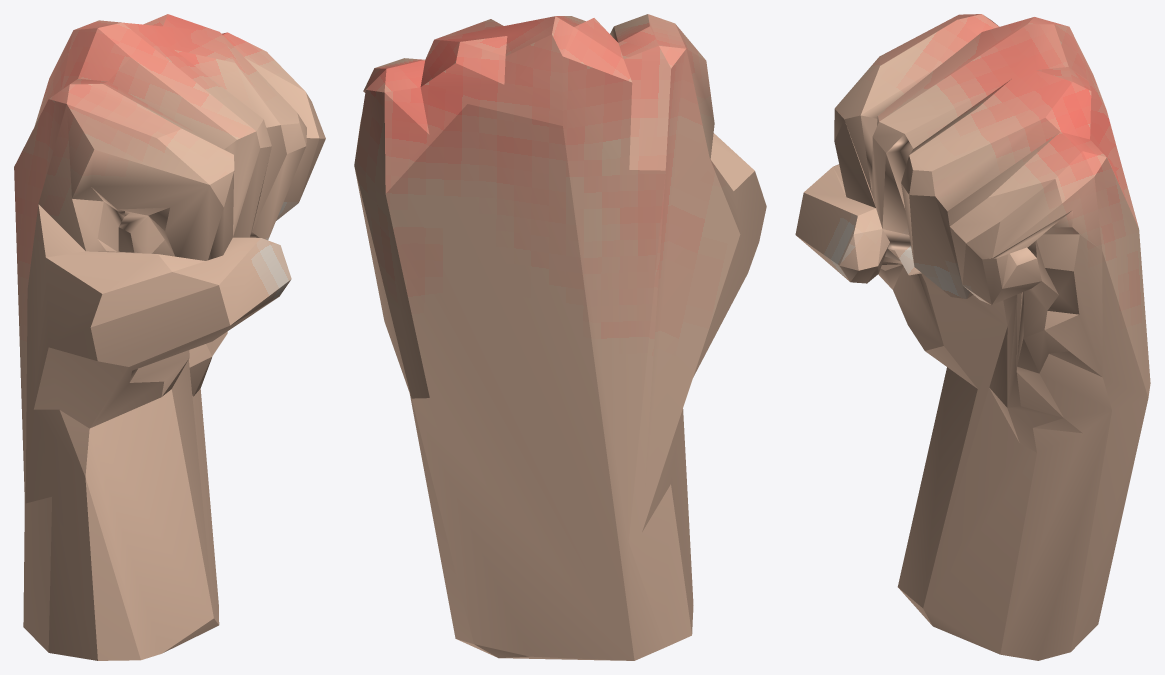
File: Fist.fbx
3 views of the same model, side by side, from view 1: azimuth 30°, elevation 25°; view 2: azimuth 150°, elevation 25°; view 3: azimuth 270°, elevation 25° (orthographic). The views are drawn at different scales.
Visible parts, largest first — view 1: Quad Sphere_Material_0_6; view 2: Quad Sphere_Material_0_6; view 3: Quad Sphere_Material_0_6.
Boxes of the visible parts, x1,y1,x2,y2 form: Quad Sphere_Material_0_6: (14, 14, 325, 660); Quad Sphere_Material_0_6: (354, 14, 766, 660); Quad Sphere_Material_0_6: (795, 14, 1150, 660).
Bounding box in the file's own units: 425 × 777 × 420.
Materials: 1 (1 with a texture image).
